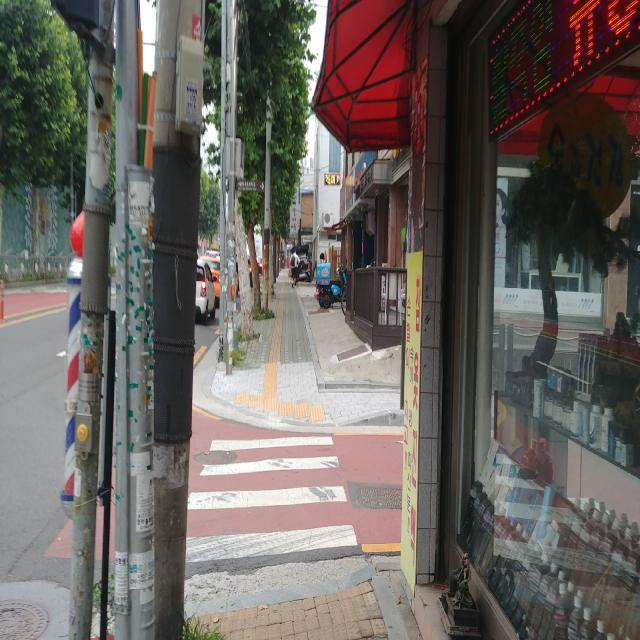횡단보도: (184, 433, 359, 566)
